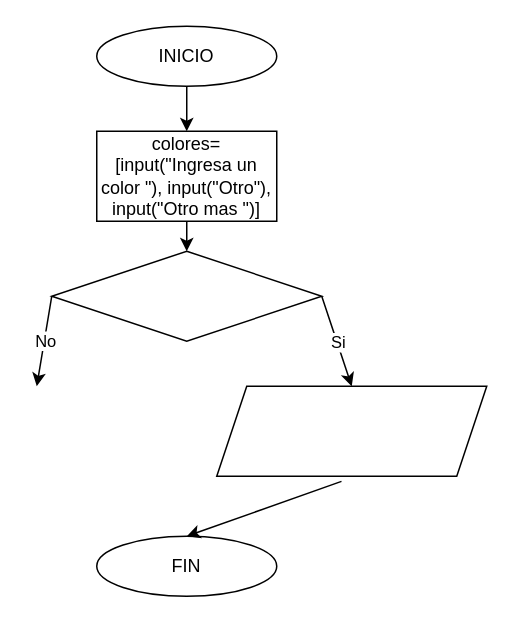
This 513x623 diagram has some shape labels left out. The centre of each missing label's shape, as x and y in pixels:
colores[1]=input("Ingresa un color diferente de azul"): pixel 351 430
if nombres[1]=="azul":: pixel 186 295
